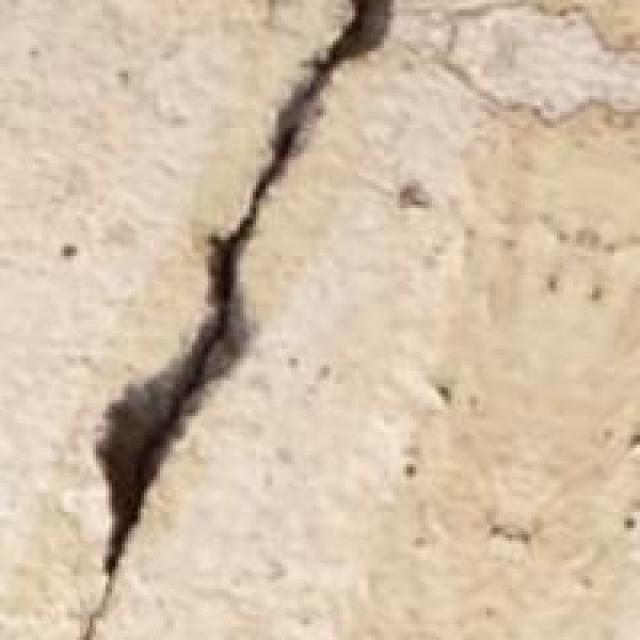Crack: (44, 0, 410, 637)
